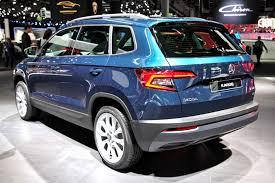skoda: (226, 63, 236, 75)
